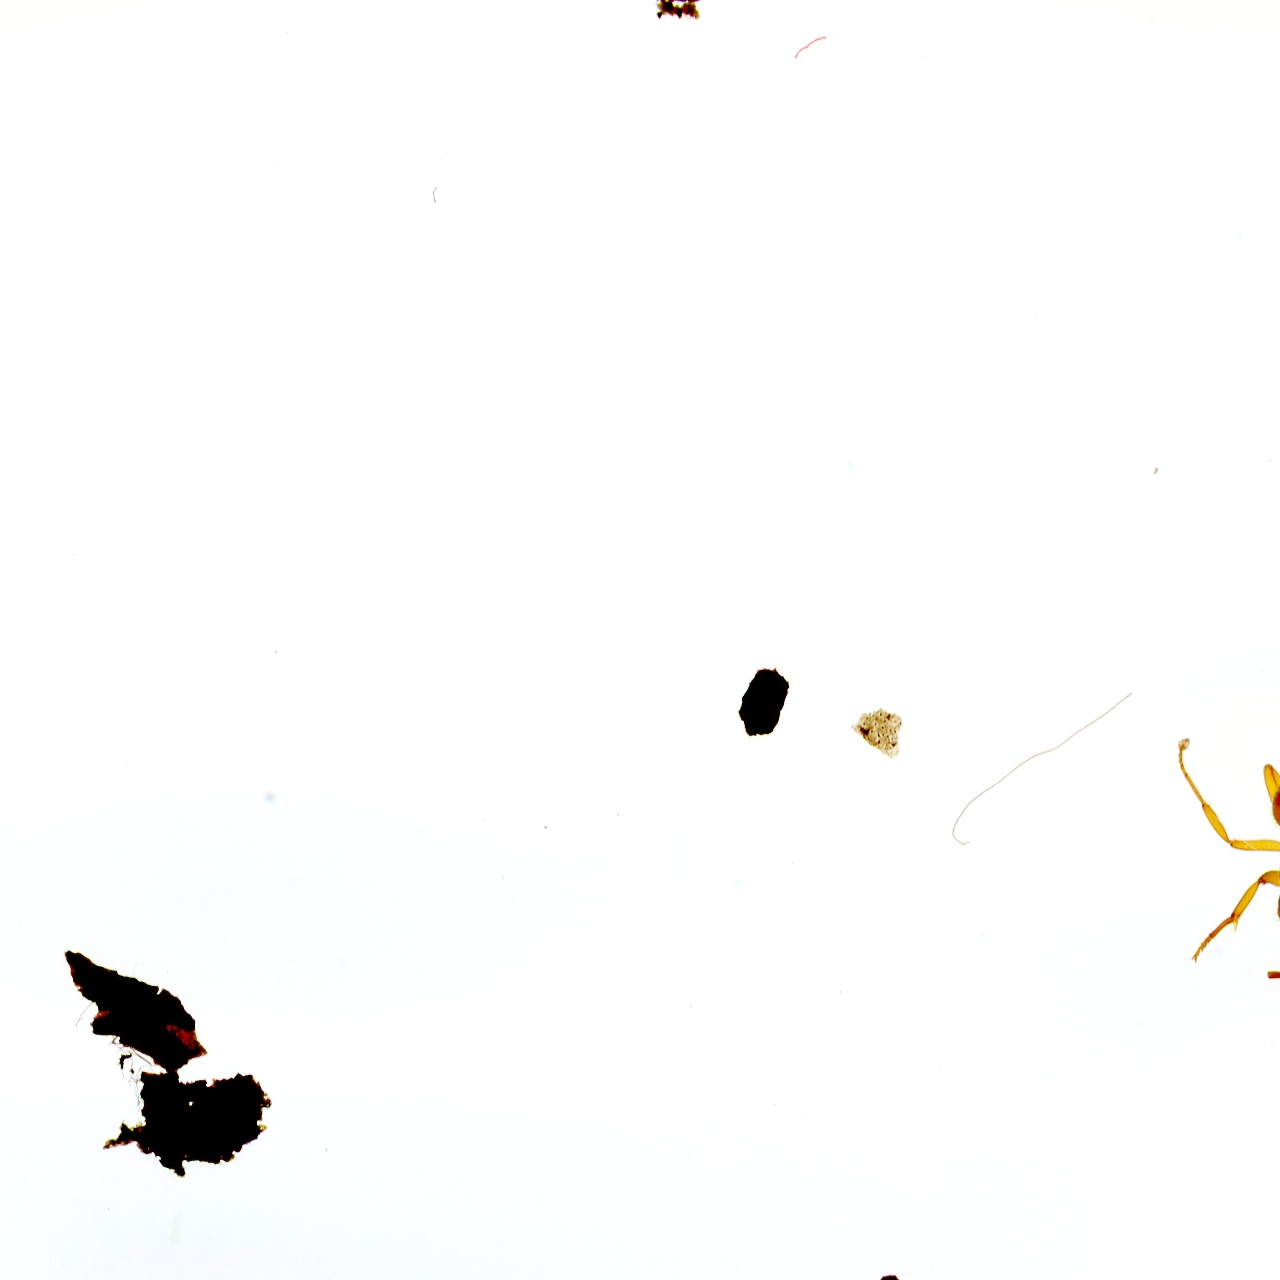arthropod: (1166, 709, 1280, 1005)
